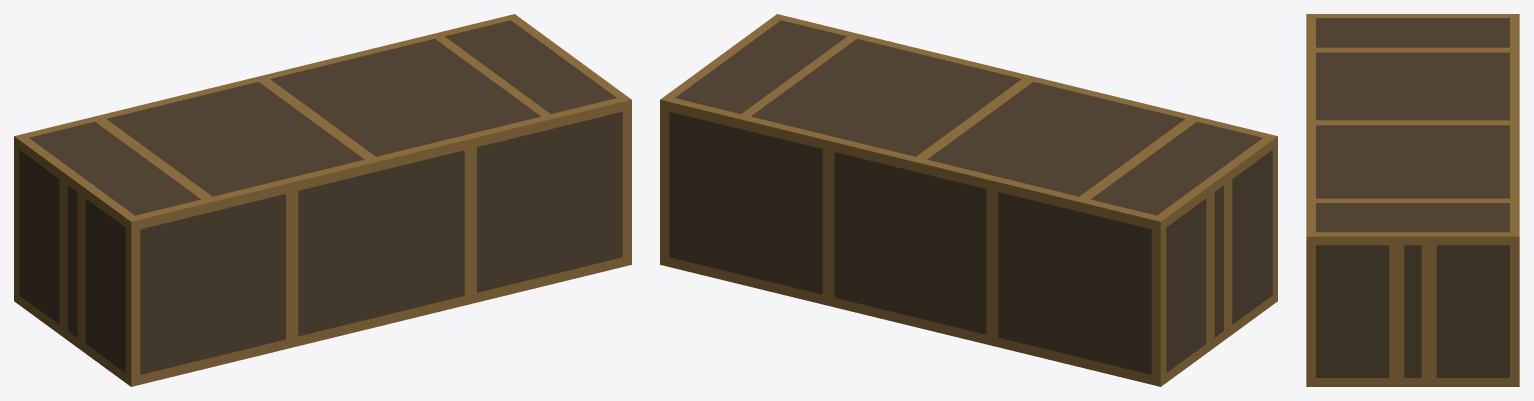
File: cargo container2.FBX
3 renders of one model, left to right at view 1: azimuth 30°, elevation 25°; view 2: azimuth 150°, elevation 25°; view 3: azimuth 270°, elevation 25°, orthographic. The views are drawn at different scales.
Visible parts, largest first — view 1: cargo container2; view 2: cargo container2; view 3: cargo container2.
Boxes of the visible parts, bbox=[...] form: cargo container2: bbox=[14, 14, 631, 386]; cargo container2: bbox=[660, 14, 1277, 386]; cargo container2: bbox=[1306, 14, 1519, 386].
Size of the model in its own units: 5.88 by 1.85 by 2.38.
